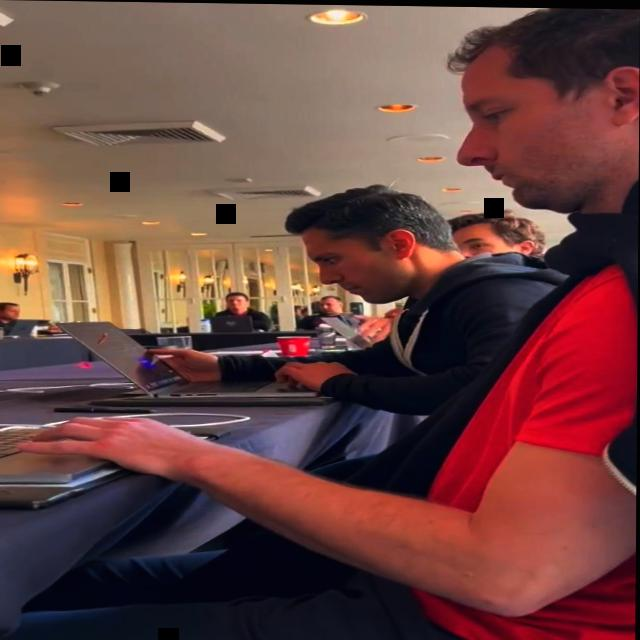NO-Mask: (458, 43, 616, 211), (300, 227, 407, 303), (454, 222, 509, 257), (227, 295, 247, 310), (1, 305, 21, 319), (320, 299, 338, 313)
